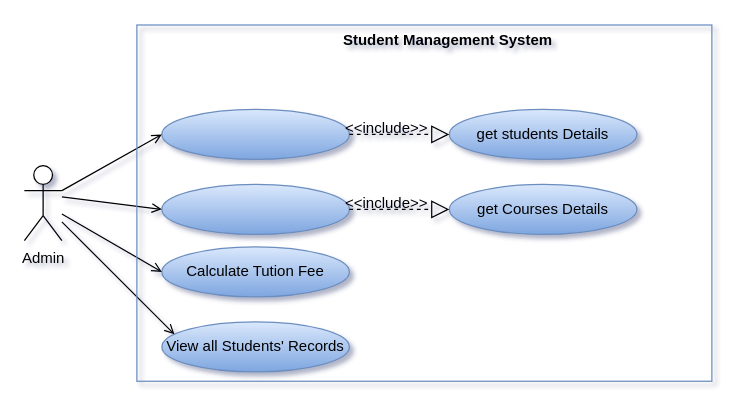
Image size: 741x410. Some labels were removed from this diagram. The box of each missing label's shape, as (x1, y1, x2, y2) in pixels:
Register Courses: (161, 183, 349, 234)
Register Students: (161, 108, 349, 159)
